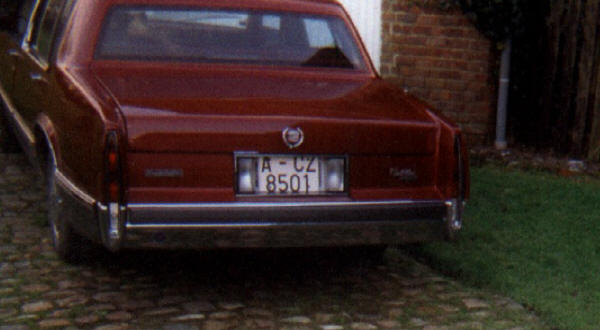license_plate: (257, 153, 321, 196)
